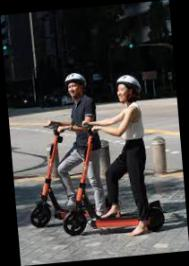helmet: (50, 70, 167, 242), (19, 69, 120, 227)
